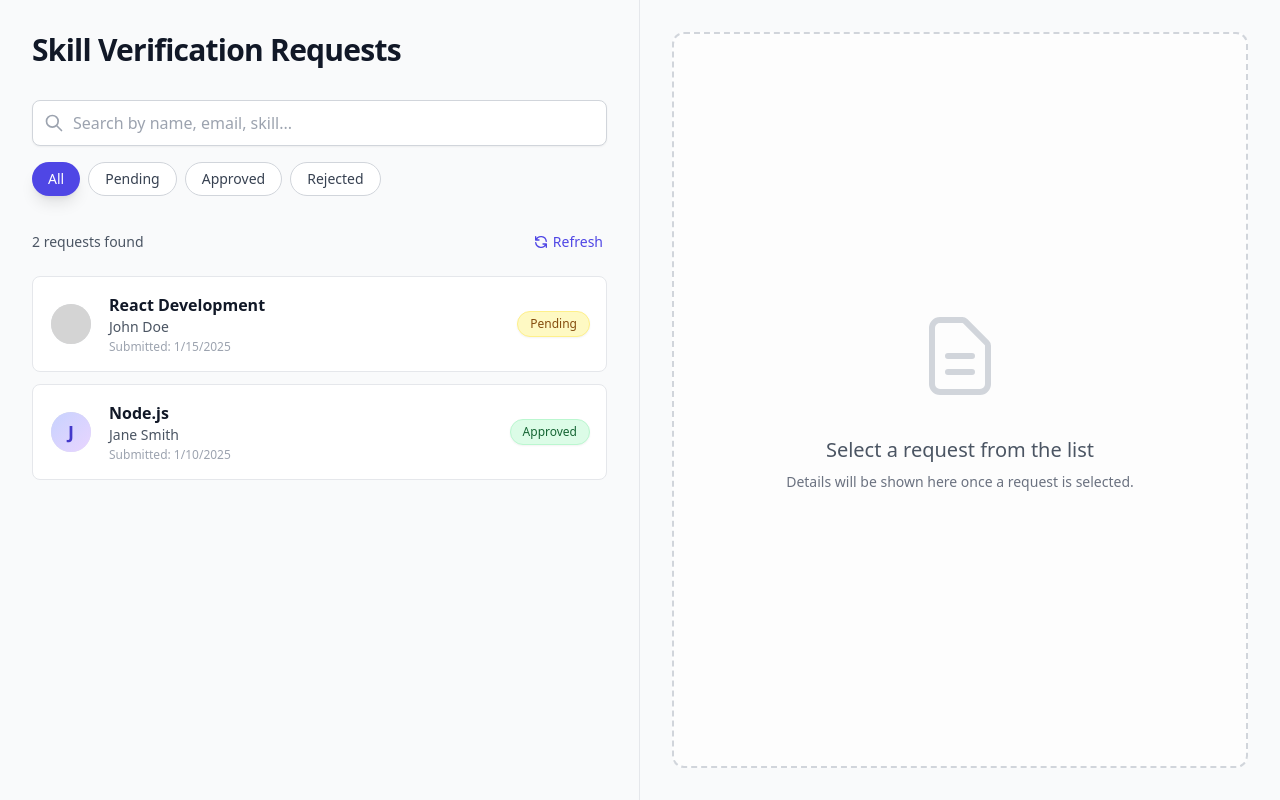
Test case: VerificationRequests Component › filters requests by status
Expected: the heading "React Development" is shown, [109,293,265,317]
Click the button "Pending" at (132,179), box [88,162,177,196]
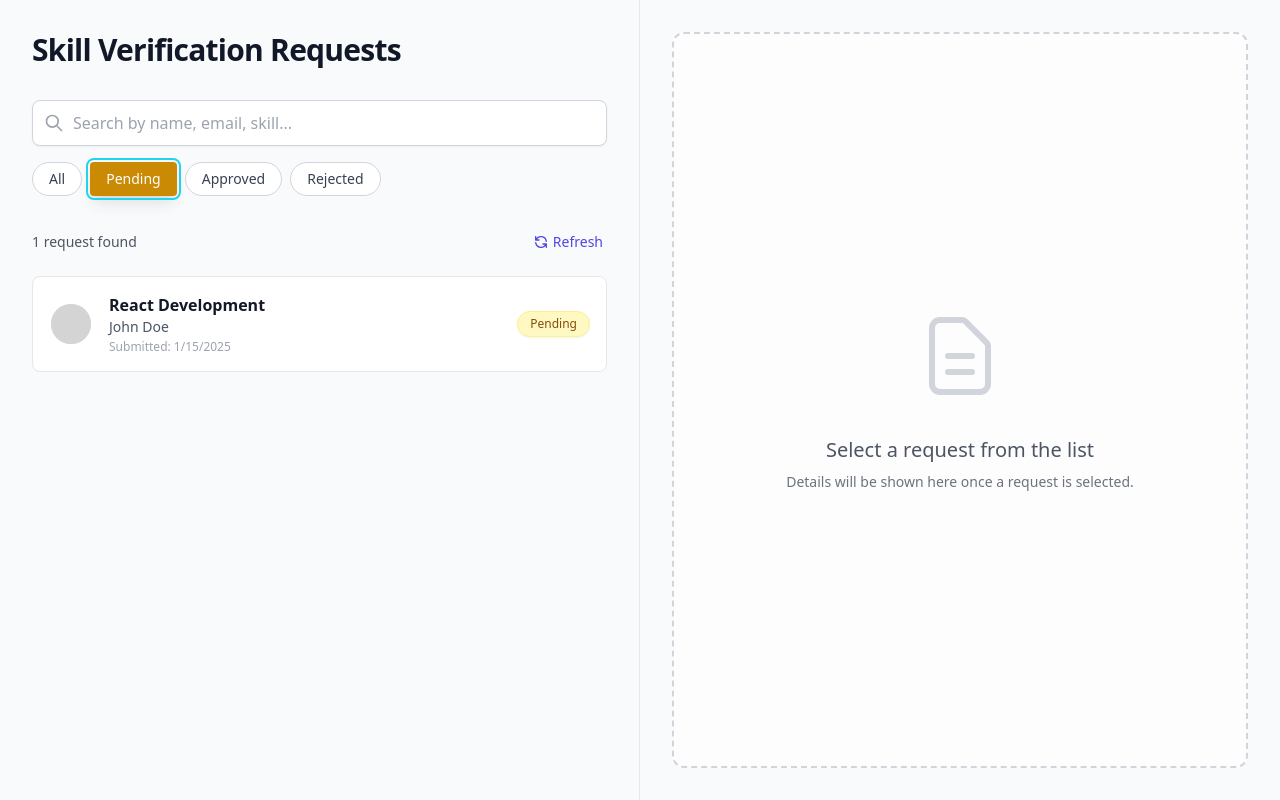
Expected: the heading "React Development" is shown, [109,293,265,317]
Expected: the heading "Node.js" is gone
Expected: the text "1 request found" is shown, [32,232,137,252]
